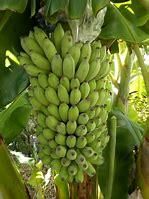banana: (16, 28, 126, 182), (12, 21, 114, 102), (24, 106, 113, 188)
